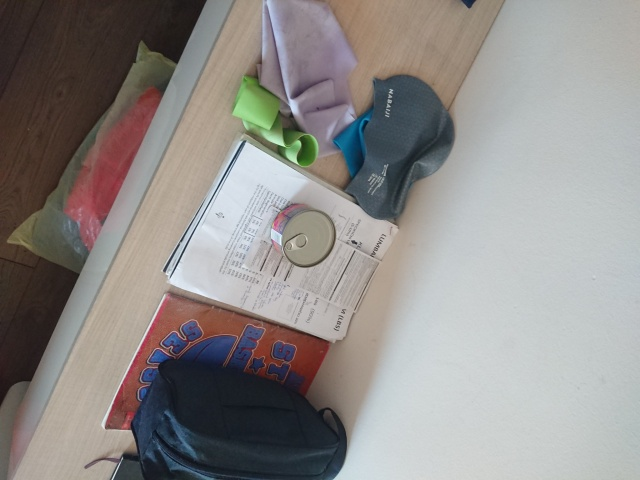Giana Tuna Salad Mexico 185g: (269, 201, 338, 270)
